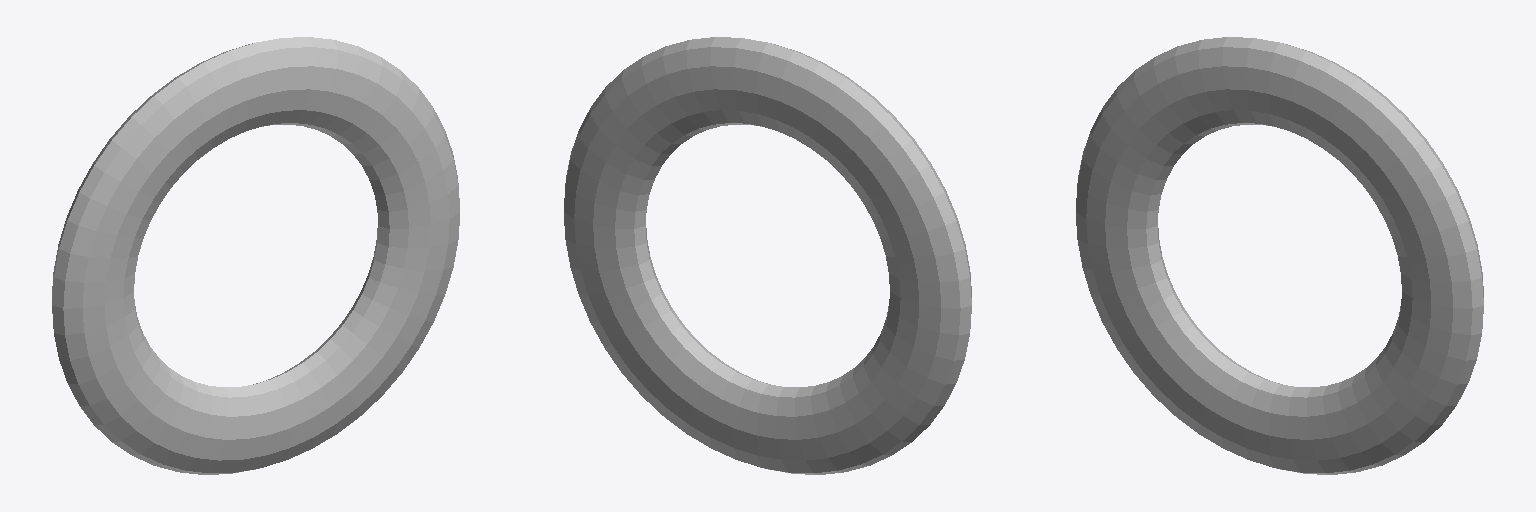
Rendered from torus_rotated.obj.
The picture shows the model from 3 angles: view 1: azimuth 30°, elevation 25°; view 2: azimuth 150°, elevation 25°; view 3: azimuth 330°, elevation 25°; orthographic projection.
Size of the model in its own units: 1 by 1 by 0.1.